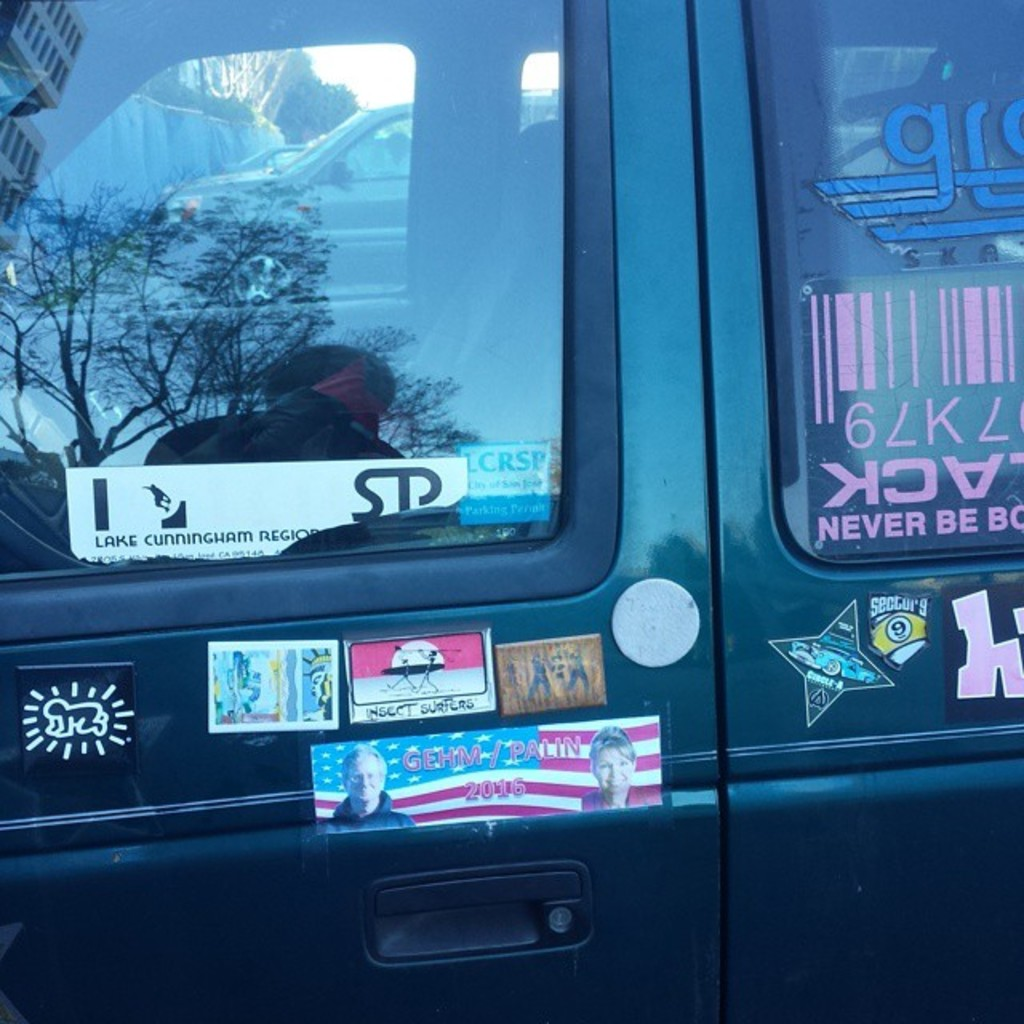Tree: (0, 148, 473, 560), (256, 44, 363, 153)
